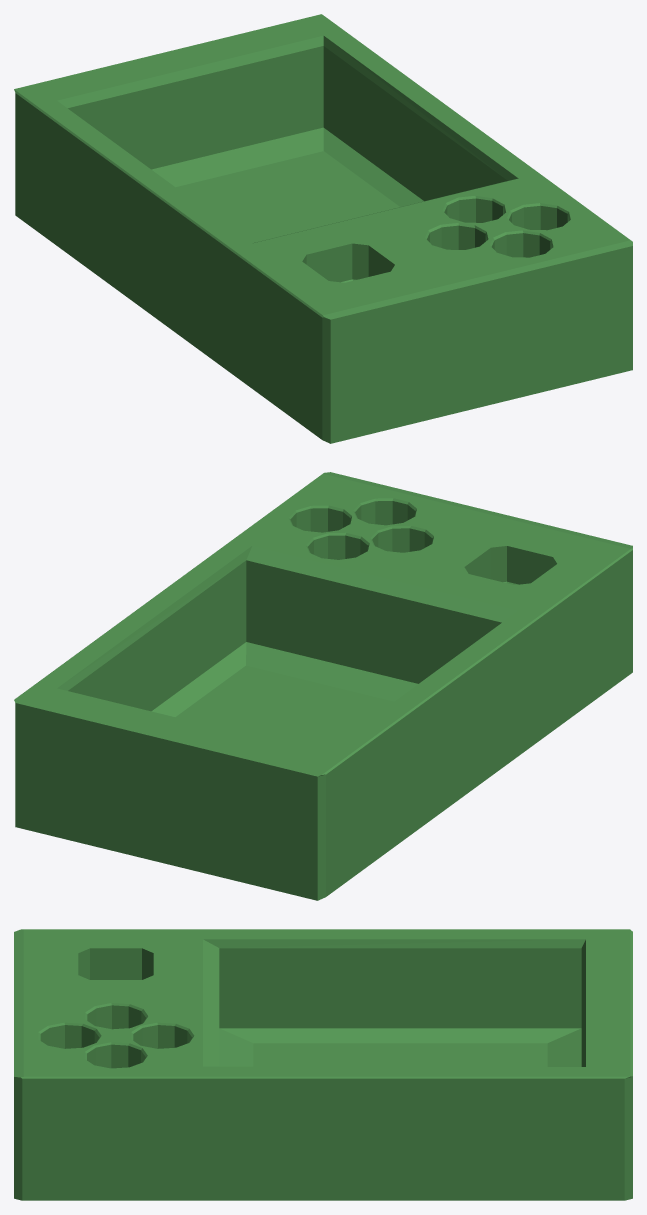
3 views of the same model, one above another, from view 1: azimuth 30°, elevation 25°; view 2: azimuth 150°, elevation 25°; view 3: azimuth 270°, elevation 25° (orthographic).
Parts seen in each view (by area): view 1: gamepad; view 2: gamepad; view 3: gamepad.
Part boxes in pixels (x1=…): gamepad: x1=14, y1=14, x2=632, y2=443; gamepad: x1=14, y1=472, x2=632, y2=900; gamepad: x1=14, y1=929, x2=632, y2=1200.
Size of the model in its own units: 1.14 by 2 by 0.4394.
